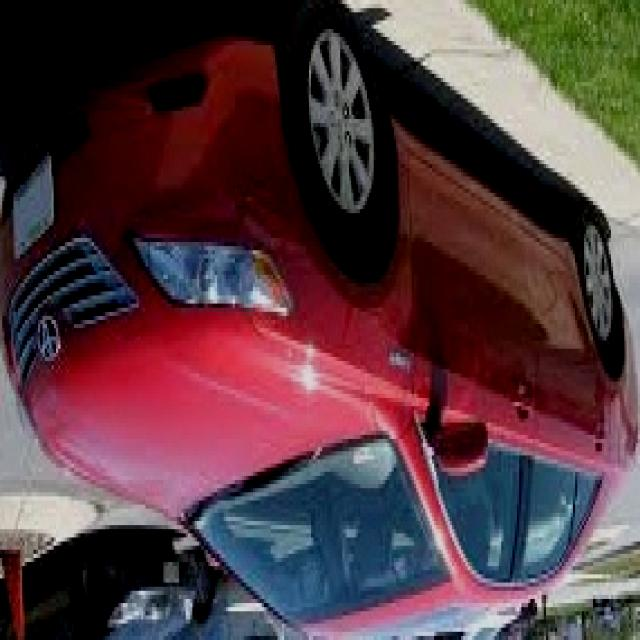red: (6, 35, 640, 640)
